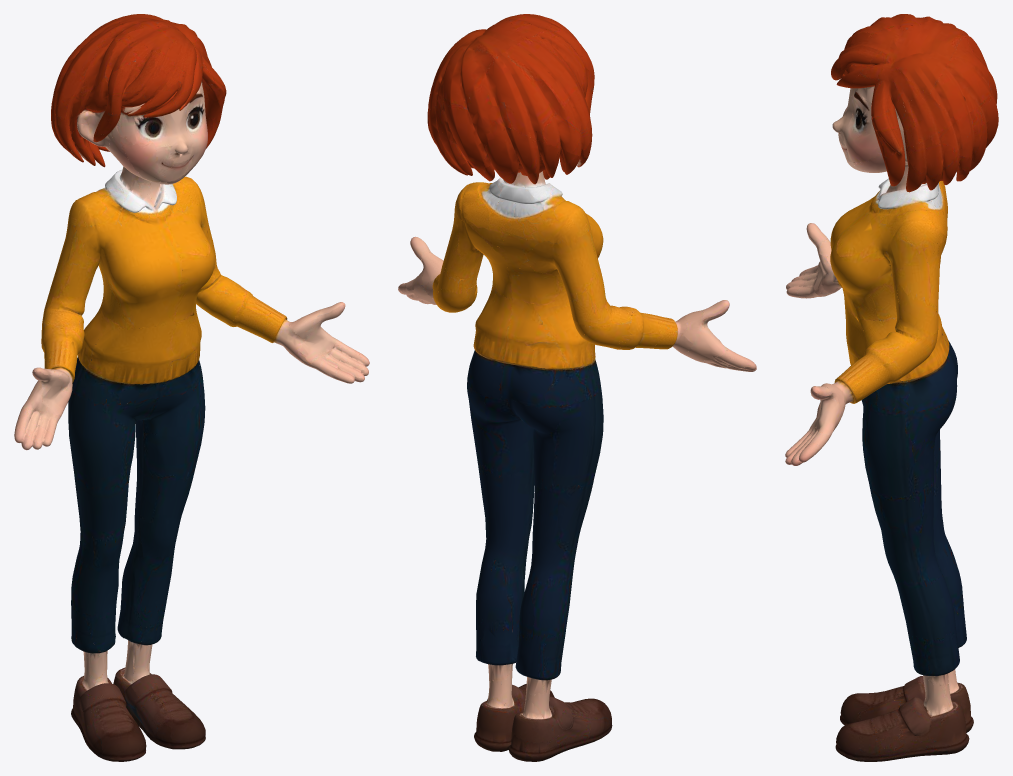
Rendered from mara.glb.
3 views of the same model, side by side, from view 1: azimuth 30°, elevation 25°; view 2: azimuth 150°, elevation 25°; view 3: azimuth 270°, elevation 25° (orthographic). The views are drawn at different scales.
Visible parts, largest first — view 1: ci_puppet; view 2: ci_puppet; view 3: ci_puppet.
Boxes of the visible parts, left/top/right/bottom form: ci_puppet: left=14, top=14, right=369, bottom=761; ci_puppet: left=398, top=14, right=756, bottom=761; ci_puppet: left=785, top=14, right=998, bottom=761.
Size of the model in its own units: 0.8636 by 1.65 by 0.4394.
Materials: 1 (1 with a texture image).
